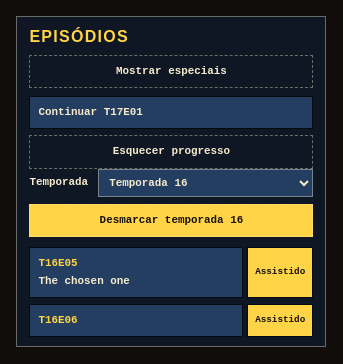
series episode picker › marks and unmarks a whole season with one write, using the same records as the single toggle
# Both episodes of season 16 are watched, so the action offers to unmark.
Click the button "Desmarcar temporada 16". click: click(171, 220)
box: [29,204,313,237]
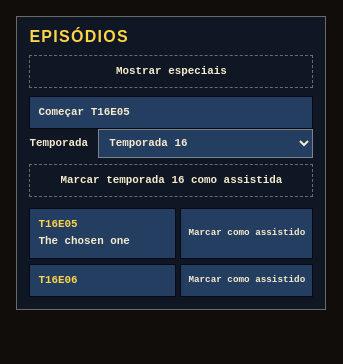
expect the button "Marcar temporada 16 como assistida" is shown: met, box [29,164,313,197]
